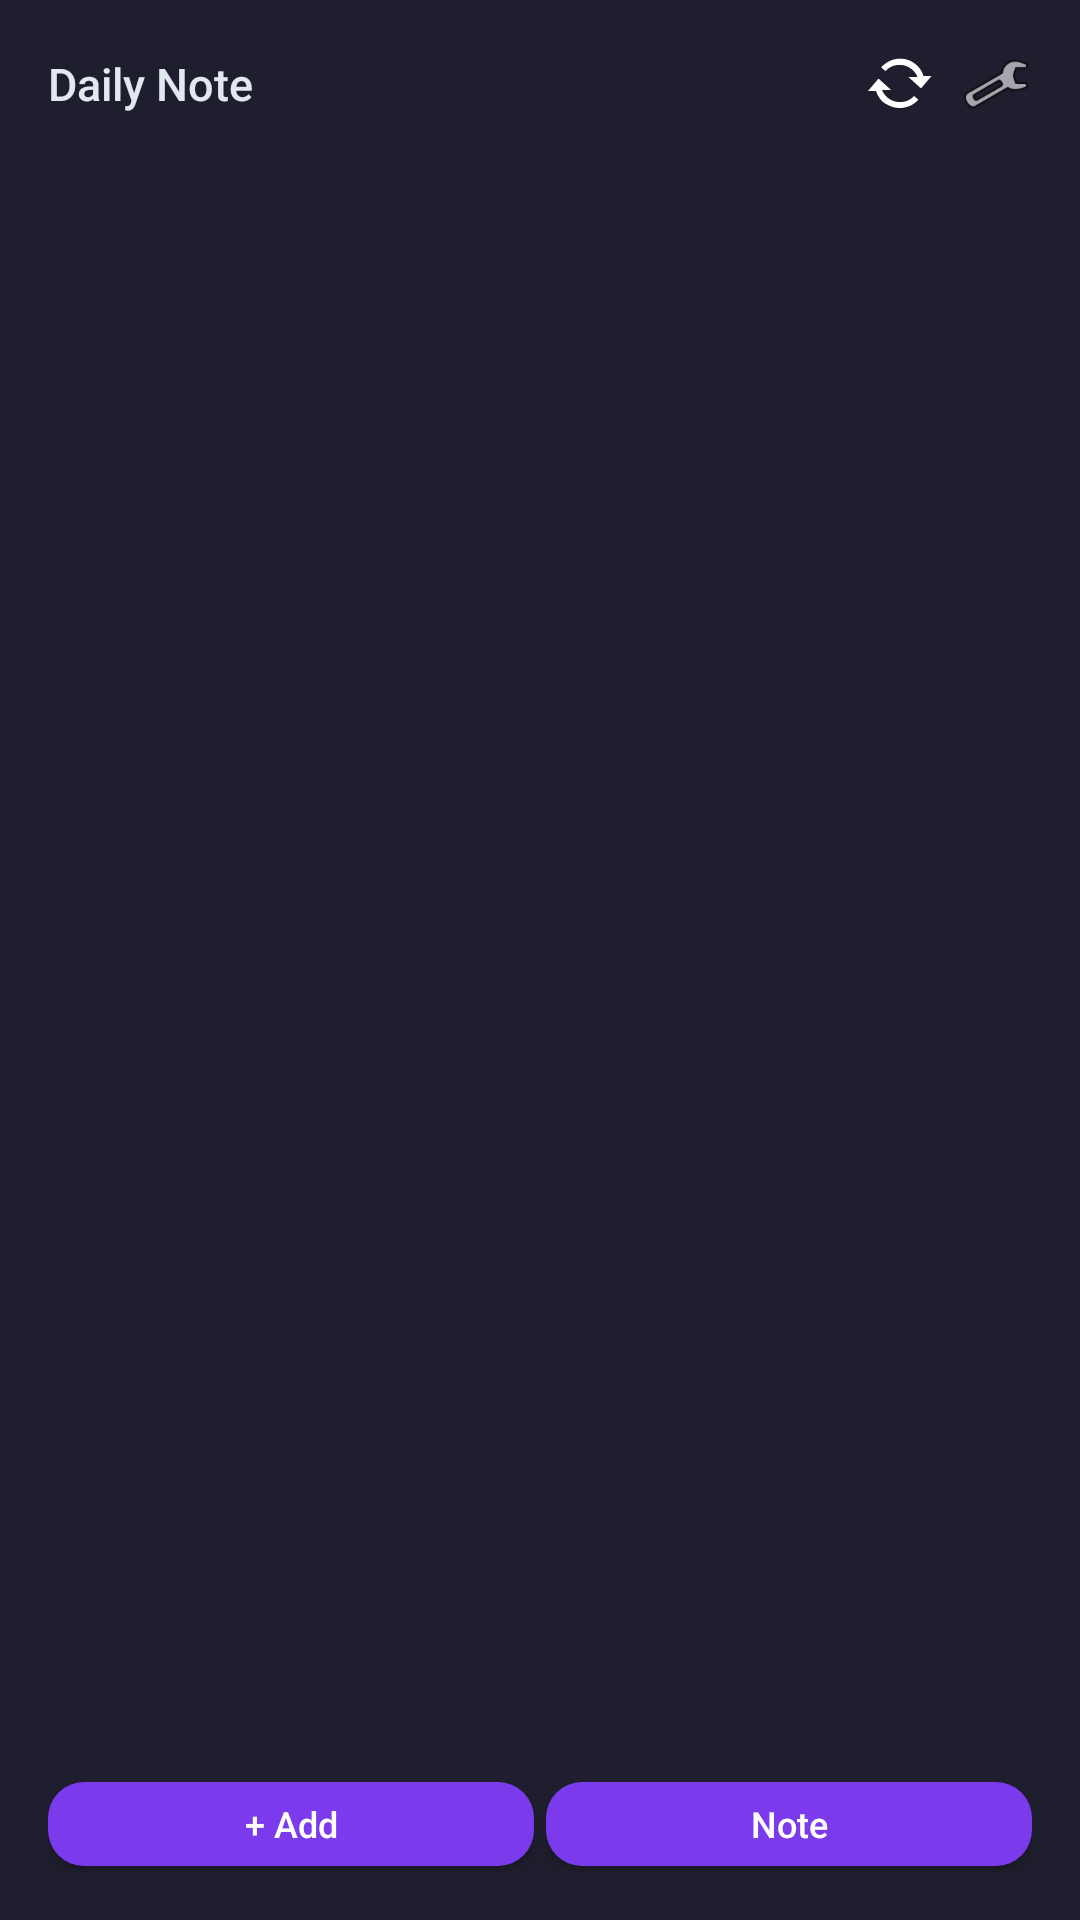

Screen size 1080px×1920px. Icon name, then its box in pixels as bbox(x1, y1, x2, y2):
Refresh: bbox(868, 58, 932, 108)
Settings: bbox(966, 61, 1027, 107)
